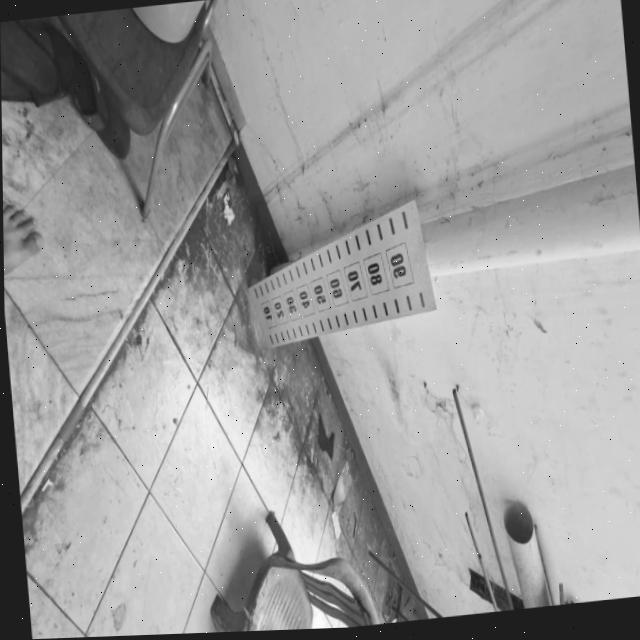water-meter: (228, 182, 446, 364)
